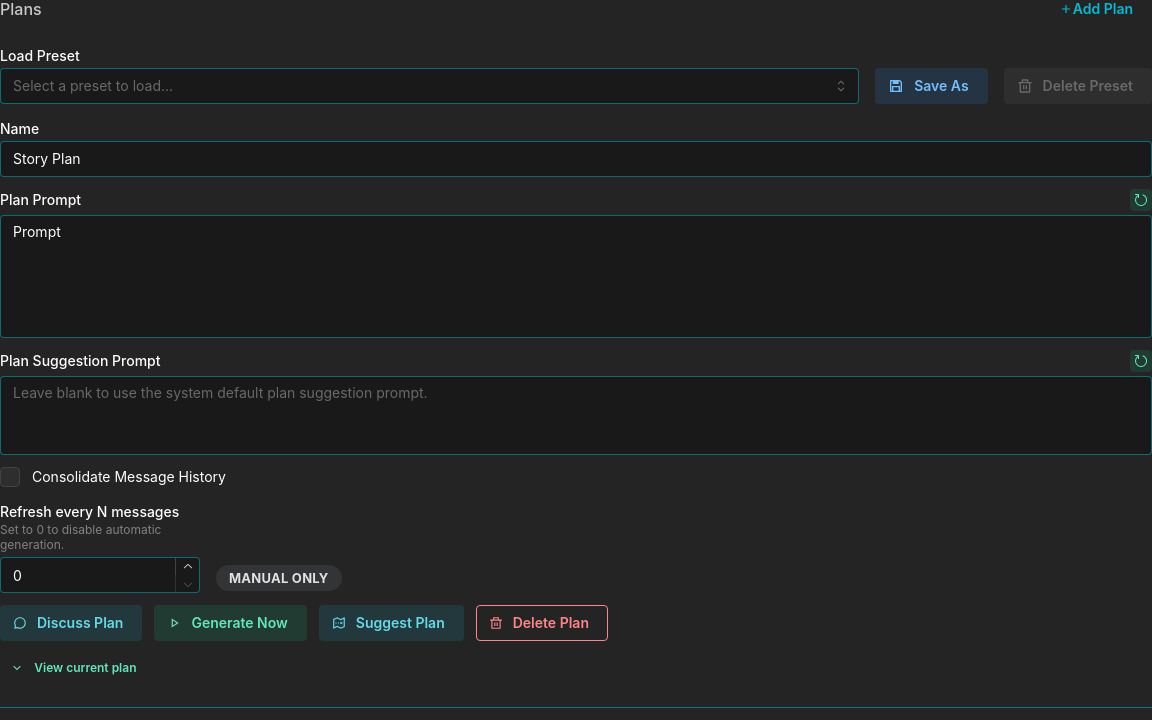
Test: PlanPage › should suggest plans from the full plan page
The image size is (1152, 720).
(page scrolled)
Click the button "Suggest Plan": (391, 623) [319, 605, 464, 641]
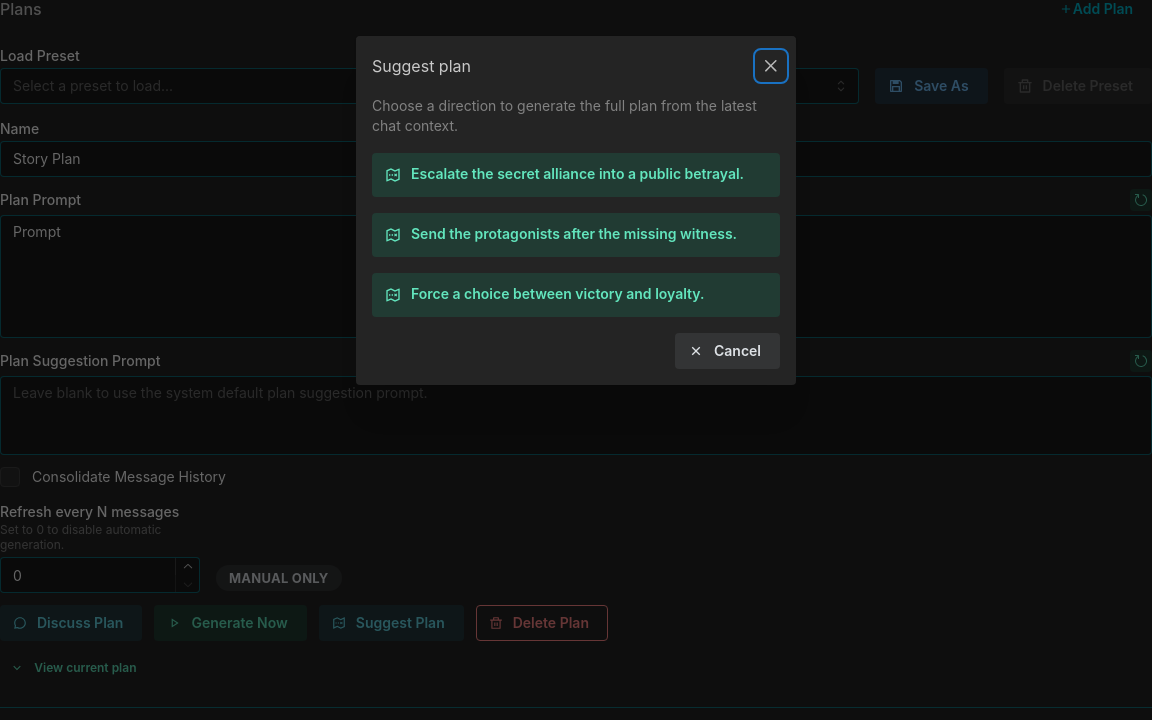
Now the button "Escalate the secret alliance into a public betrayal." is shown, box [372, 153, 780, 197]
